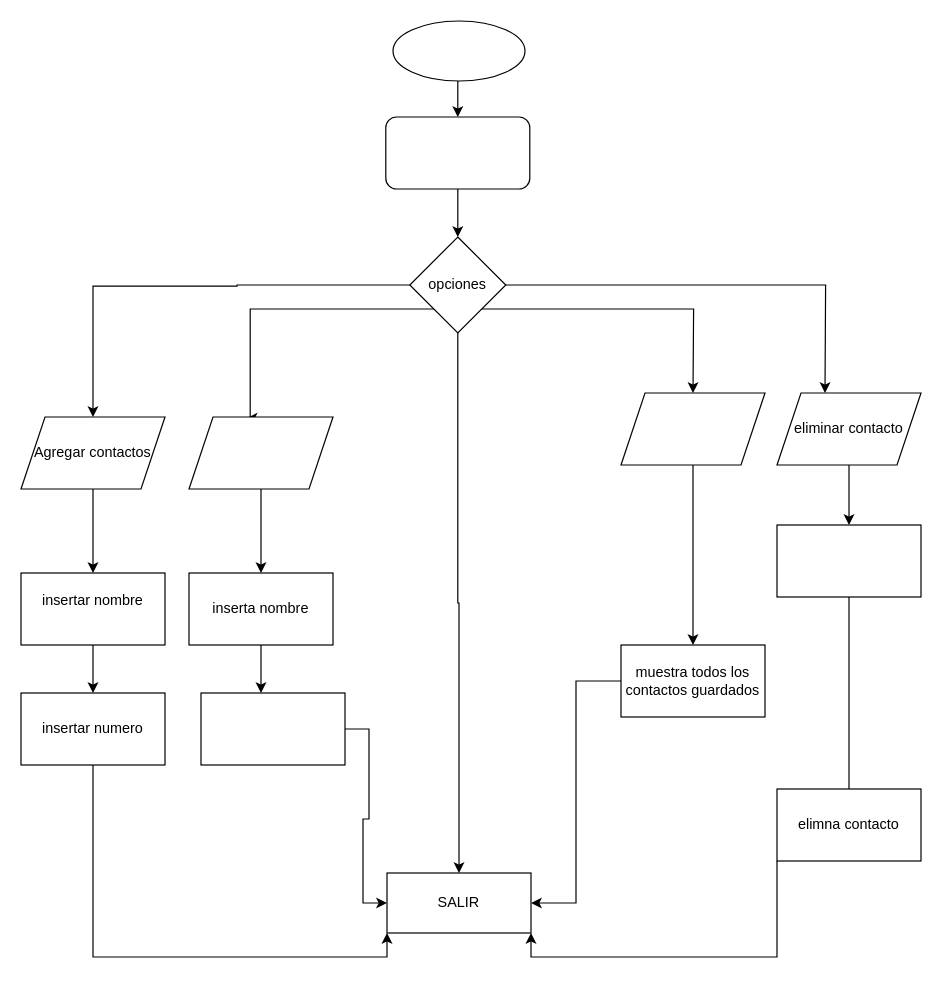
Image size: 942x988. Some labels were removed from this diagram. Each missing label, with the centre of its shape:
"buscar contacto" belongs at point (260, 452).
"contactos" belongs at point (457, 152).
"ingresa el nombre del contacto a eliminar" belongs at point (848, 560).
"mostrar lista de contactos" belongs at point (692, 428).
"muestra nombre y numero de contacto" belongs at point (272, 728).
